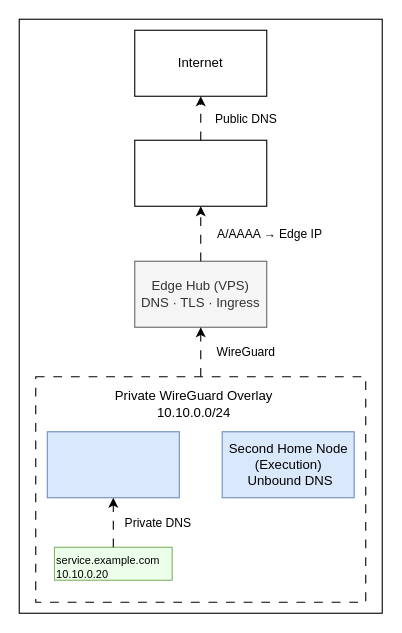
This 402x633 diagram has some shape labels left out. Each missing label, with the centre of its shape:
"Home Node (Execution) Unbound DNS" belongs at point (112, 464).
"Public DNS (Cloudflare )" belongs at point (200, 172).
